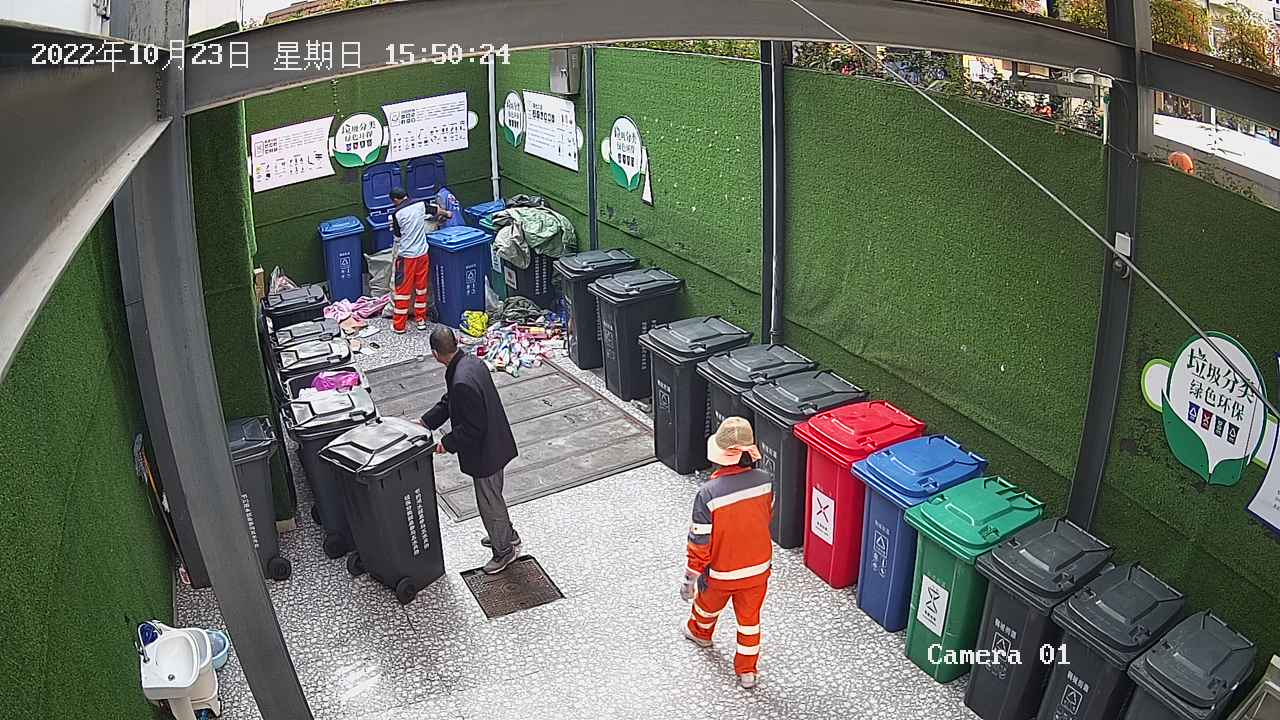person: (407, 319, 527, 580)
worker: (677, 412, 781, 692), (383, 183, 432, 338)
